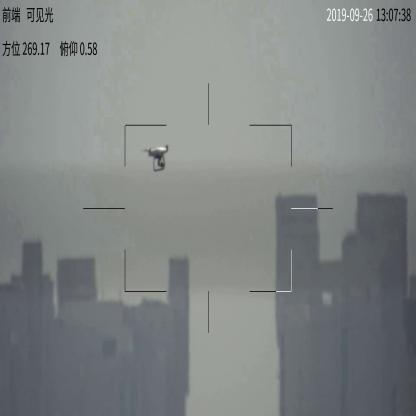uav: (141, 142, 177, 173)
